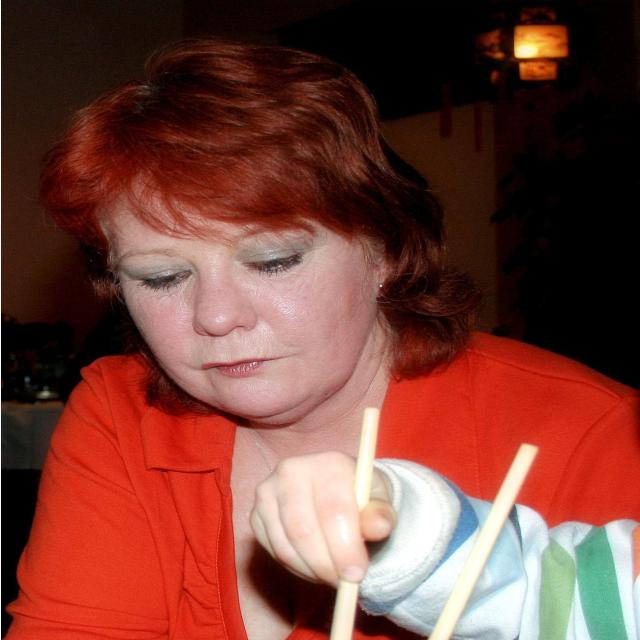no-glass: (136, 245, 315, 294)
